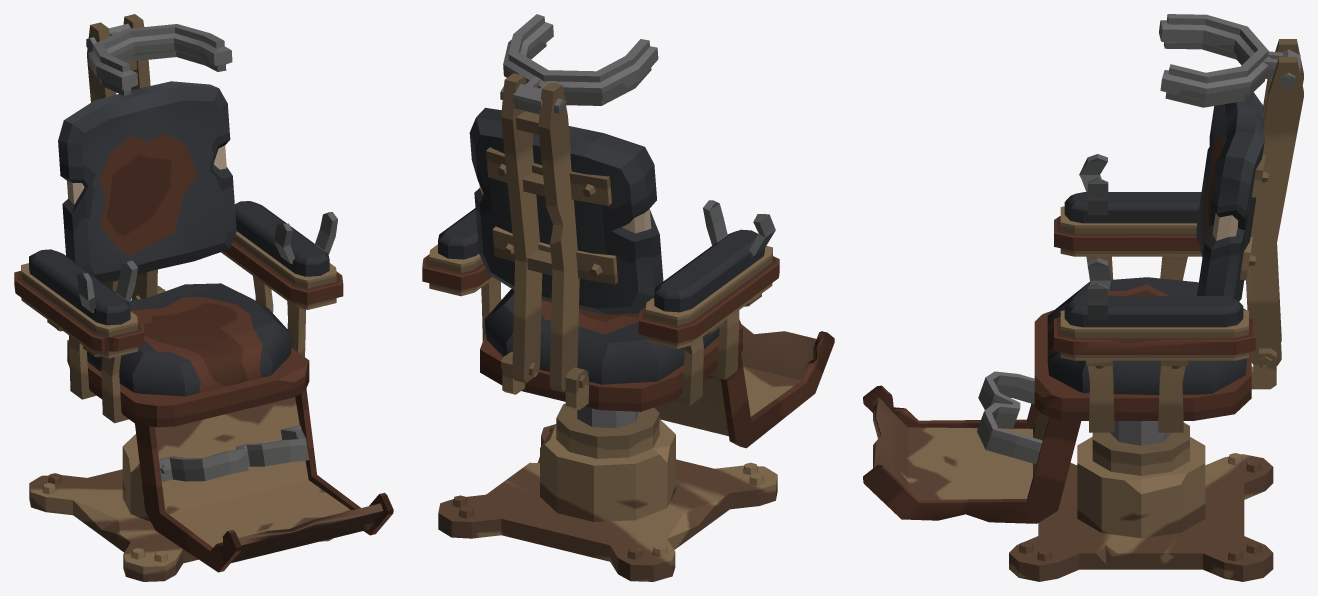
Rendered from SM_Prop_Chair_05.fbx.
3 renders of one model, left to right at view 1: azimuth 30°, elevation 25°; view 2: azimuth 150°, elevation 25°; view 3: azimuth 270°, elevation 25°, orthographic. The views are drawn at different scales.
Visible parts, largest first — view 1: SM_Prop_Chair_05, SM_Prop_Chair_05_Backrest_01, SM_Prop_Chair_05_HeadBrace_01; view 2: SM_Prop_Chair_05, SM_Prop_Chair_05_Backrest_01, SM_Prop_Chair_05_HeadBrace_01; view 3: SM_Prop_Chair_05, SM_Prop_Chair_05_Backrest_01, SM_Prop_Chair_05_HeadBrace_01.
Boxes of the visible parts, box(x1,y1,x2,y2) form: SM_Prop_Chair_05: box(14, 201, 393, 581); SM_Prop_Chair_05_Backrest_01: box(58, 14, 236, 300); SM_Prop_Chair_05_HeadBrace_01: box(86, 23, 232, 95); SM_Prop_Chair_05: box(422, 200, 834, 581); SM_Prop_Chair_05_Backrest_01: box(469, 73, 663, 392); SM_Prop_Chair_05_HeadBrace_01: box(500, 14, 658, 114); SM_Prop_Chair_05: box(863, 154, 1276, 581); SM_Prop_Chair_05_Backrest_01: box(1196, 39, 1303, 365); SM_Prop_Chair_05_HeadBrace_01: box(1159, 14, 1300, 107).
Bounding box in the file's own units: 97.69 × 167 × 137.
